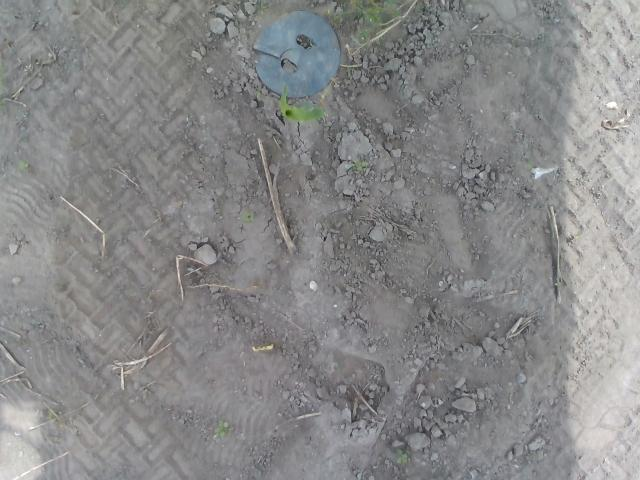Maize: (278, 82, 324, 123)
Weeds: (324, 0, 404, 44), (212, 417, 235, 439), (0, 56, 7, 113), (236, 208, 254, 224), (394, 448, 410, 466), (352, 159, 370, 172), (15, 159, 30, 173), (256, 0, 268, 10), (254, 88, 264, 97), (526, 158, 533, 170)
